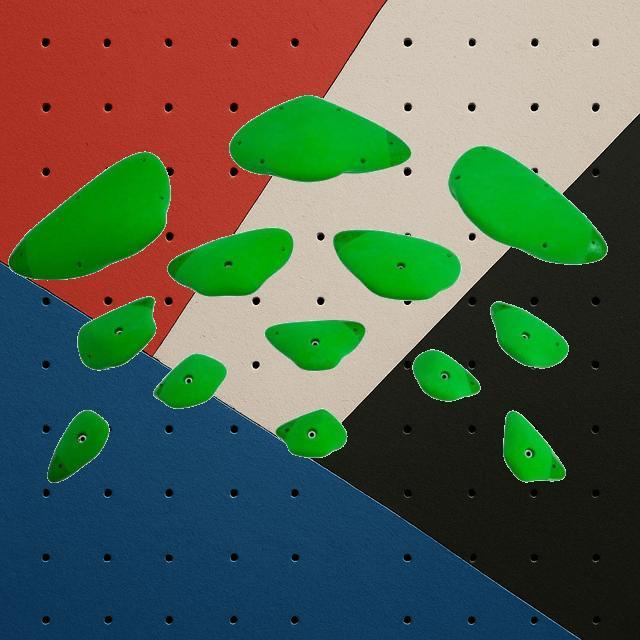Jug: (8, 151, 170, 281), (448, 144, 608, 264), (228, 94, 412, 182), (332, 228, 460, 300), (166, 227, 294, 297), (76, 295, 156, 369), (264, 319, 366, 371), (491, 301, 569, 369), (502, 410, 566, 482), (47, 409, 109, 483), (152, 352, 228, 408), (275, 408, 347, 458), (412, 349, 480, 401)
